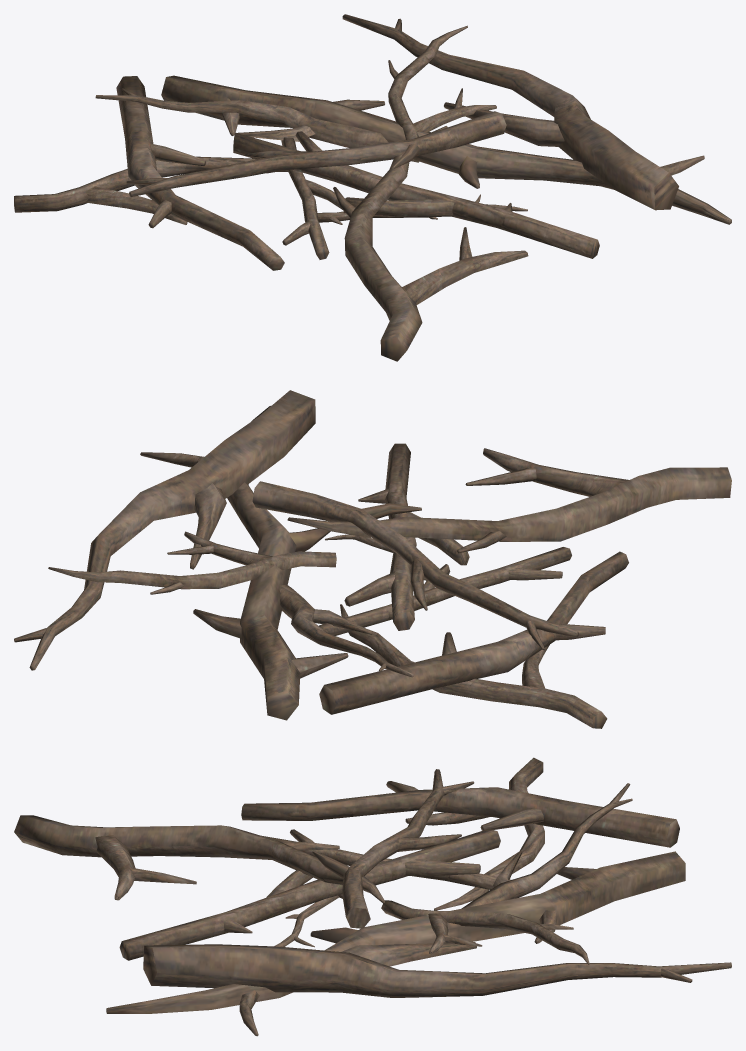
File: CollectibleBranch (2).fbx
The picture shows the model from 3 angles, top to bottom: view 1: azimuth 30°, elevation 25°; view 2: azimuth 150°, elevation 25°; view 3: azimuth 270°, elevation 25°; orthographic projection. The views are drawn at different scales.
Parts seen in each view (by area): view 1: ItemBox_Branch_01; view 2: ItemBox_Branch_01; view 3: ItemBox_Branch_01.
Part boxes in pixels (left/top/right/bottom): ItemBox_Branch_01: left=14, top=14, right=731, bottom=361; ItemBox_Branch_01: left=14, top=390, right=731, bottom=728; ItemBox_Branch_01: left=14, top=757, right=731, bottom=1036.
Size of the model in its own units: 1.65 by 0.1879 by 1.78.
1 material, 1 textured.
